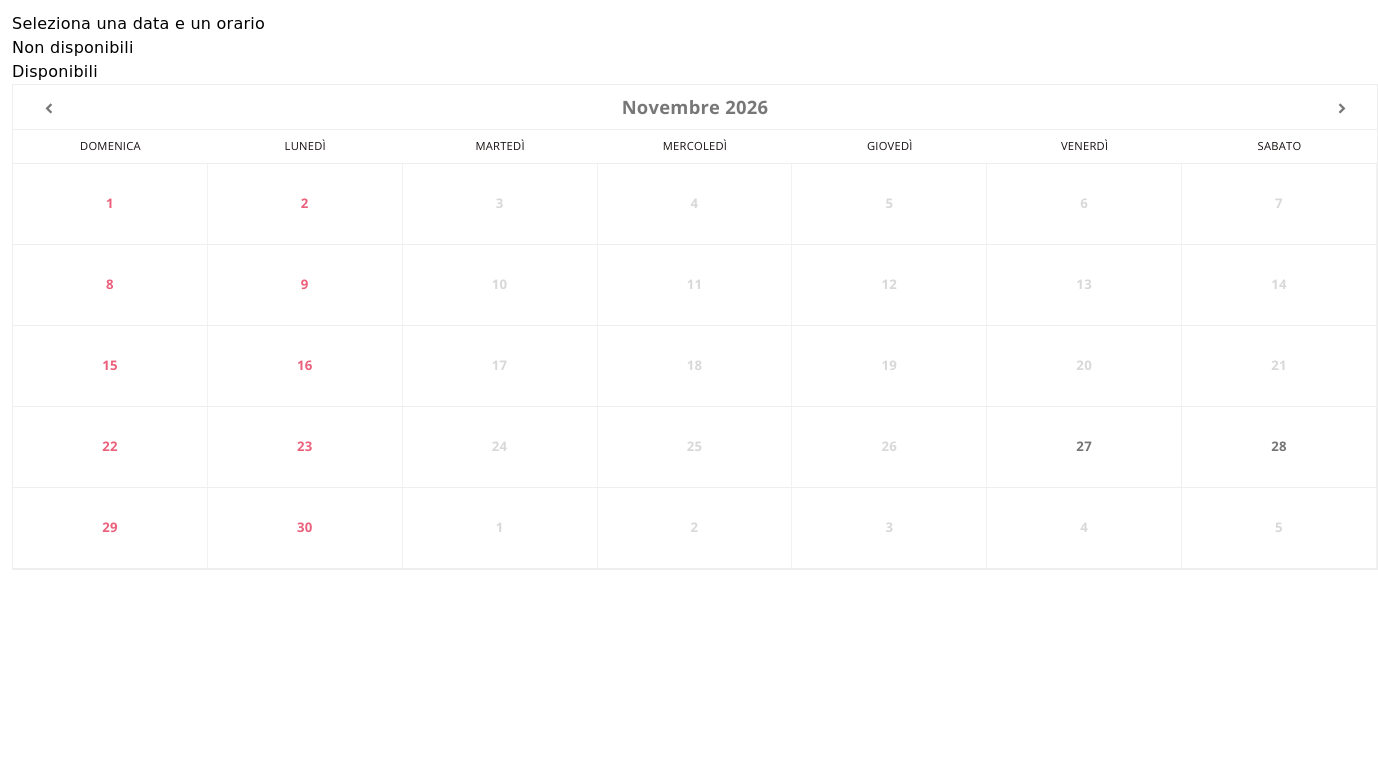
Scenario: special openings in the public calendar › offers the two Rome-time windows and disables lunch and occupied slots
Later steps or results of the test are not shown.
Click the 2nd button "chevron_right": (1341, 109) [1332,100,1351,118]
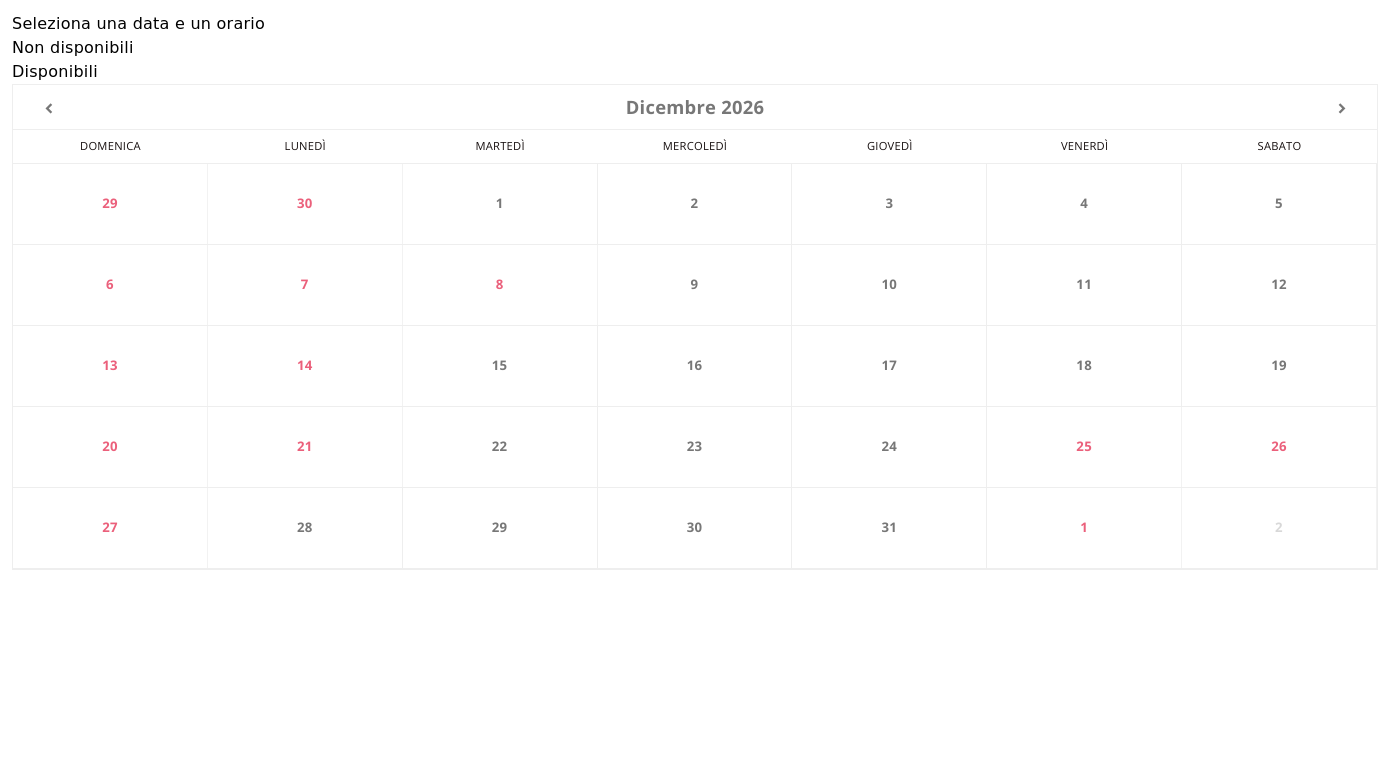
expect the button with class "t28-12" has class "special-opening": met, box [208,488,403,568]
